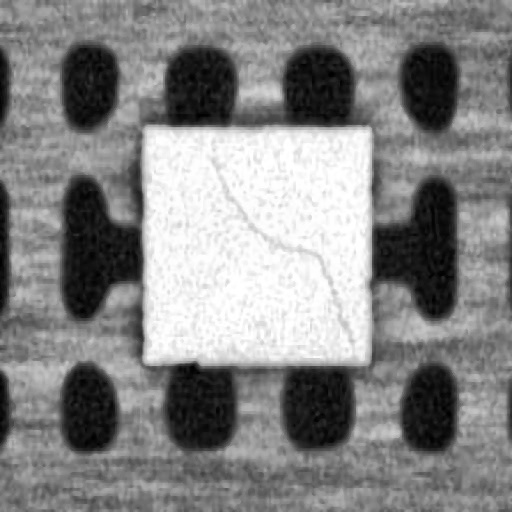DIE_CRACK: (209, 151, 356, 342)
